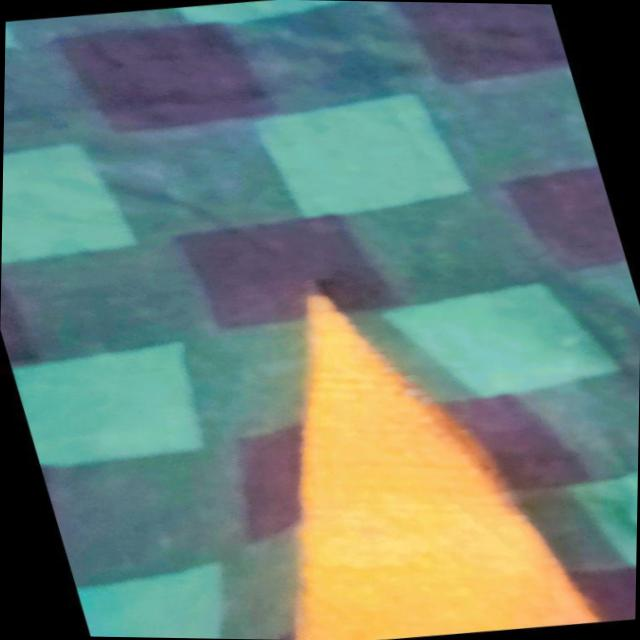cut: (179, 252, 599, 640)
